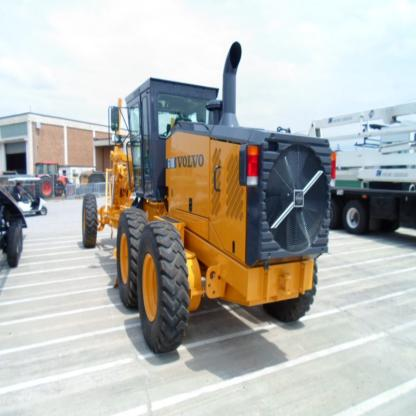bull_dozer/loader/grader: (77, 63, 353, 357)
